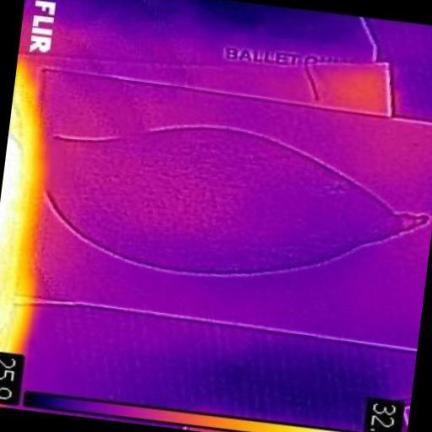mango: (48, 126, 428, 274)
